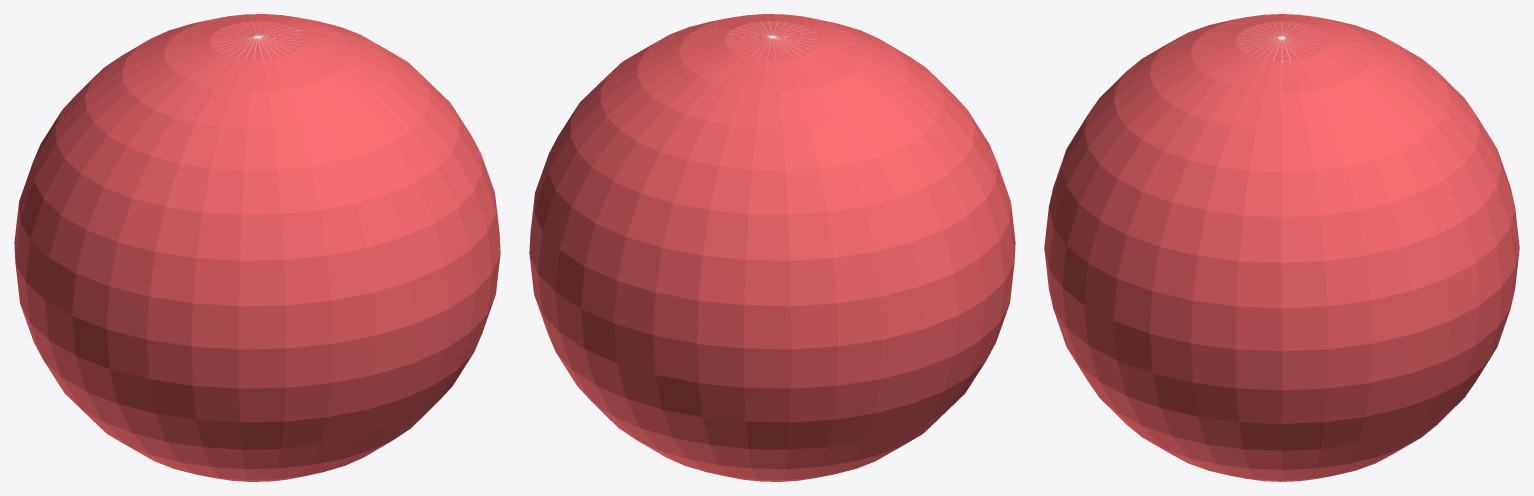
The model's file is particle.obj.
3 renders of one model, left to right at view 1: azimuth 30°, elevation 25°; view 2: azimuth 150°, elevation 25°; view 3: azimuth 270°, elevation 25°, orthographic.
Parts seen in each view (by area): view 1: 球; view 2: 球; view 3: 球.
Boxes of the visible parts, box(x1,y1,x2,y2) form: 球: box(14, 14, 500, 481); 球: box(529, 14, 1015, 481); 球: box(1044, 14, 1519, 481).
Bounding box in the file's own units: 1.16 × 1.1 × 1.13.
1 material, 1 textured.
